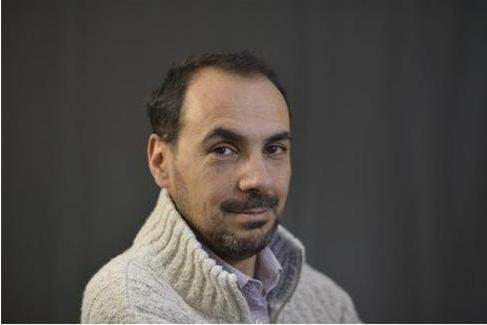Sober: (184, 79, 292, 248)
